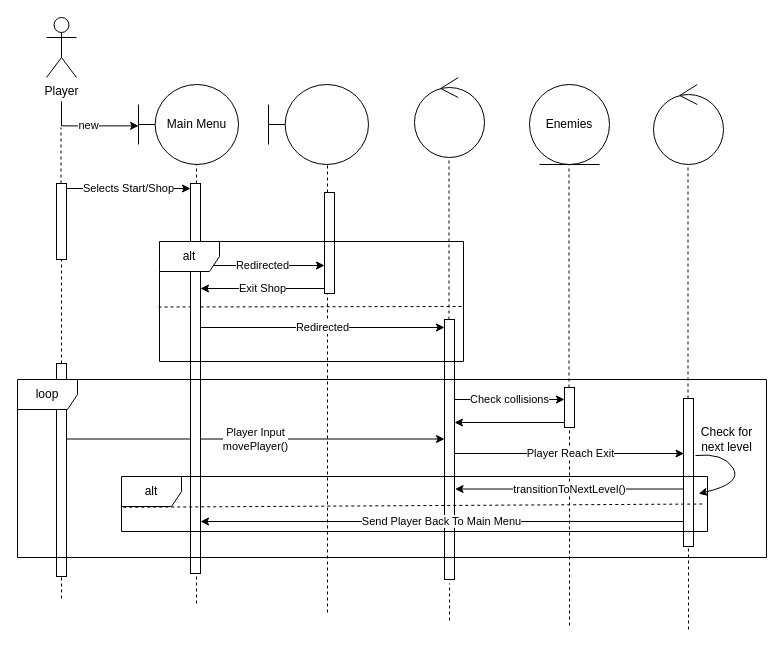
Some shapes in this 784 by 648 pixel diagram are drawn without their labels. Here are the shapes that lost their labels. From the top down, the centre of each, then its label:
(x=318, y=124): Shop
(x=449, y=117): Game Loop
(x=688, y=124): Level Manager
